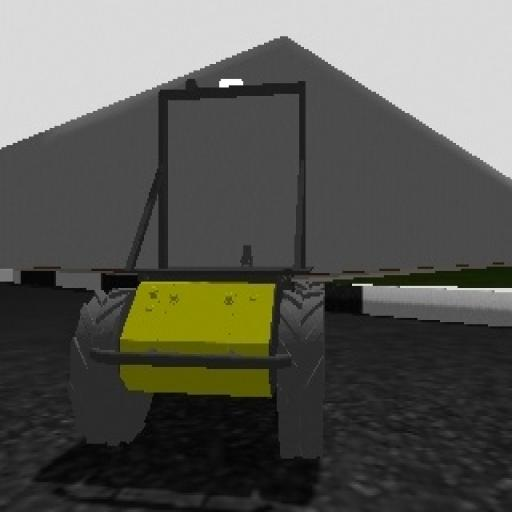huskya200: (75, 74, 328, 460)
